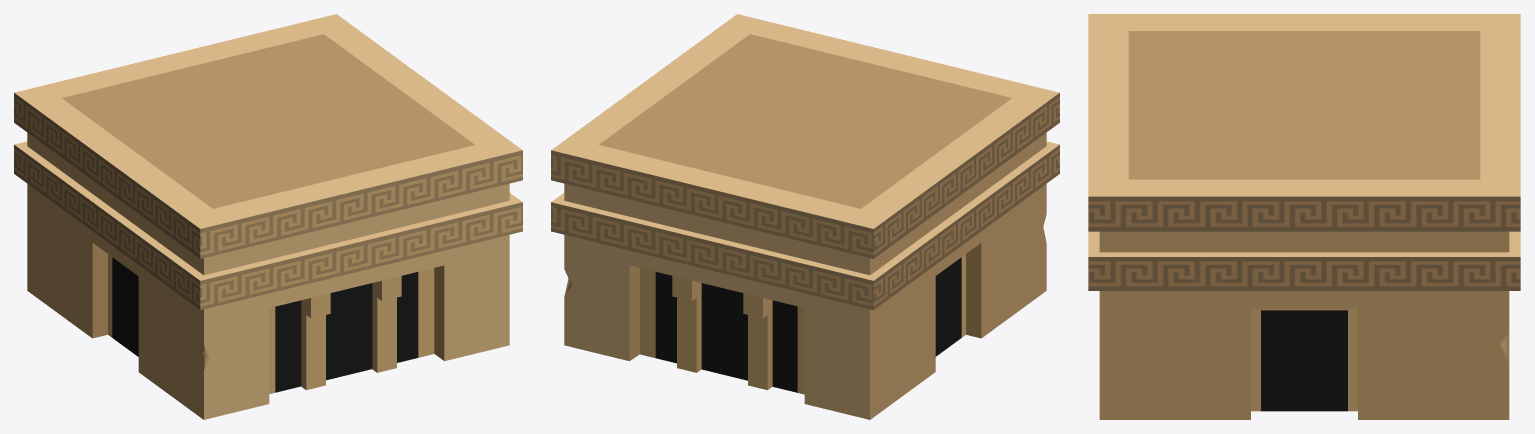
File: ST_Env_BuildingTopper_01.fbx
3 renders of one model, left to right at view 1: azimuth 30°, elevation 25°; view 2: azimuth 150°, elevation 25°; view 3: azimuth 270°, elevation 25°, orthographic. The views are drawn at different scales.
Visible parts, largest first — view 1: ST_Env_BuildingTopper_01; view 2: ST_Env_BuildingTopper_01; view 3: ST_Env_BuildingTopper_01.
Boxes of the visible parts, bbox=[...] form: ST_Env_BuildingTopper_01: bbox=[14, 14, 522, 419]; ST_Env_BuildingTopper_01: bbox=[551, 14, 1059, 419]; ST_Env_BuildingTopper_01: bbox=[1088, 14, 1520, 419].
Size of the model in its own units: 10.71 by 6.23 by 10.71.
